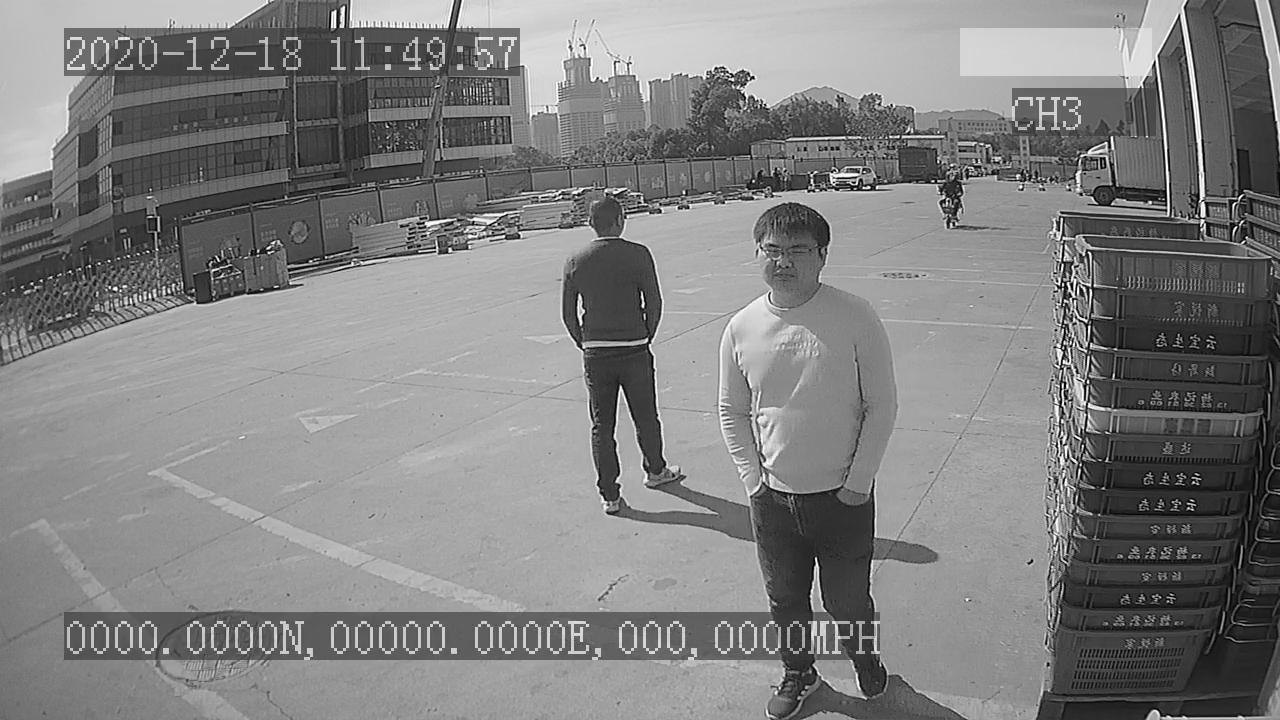person: (556, 195, 690, 519)
